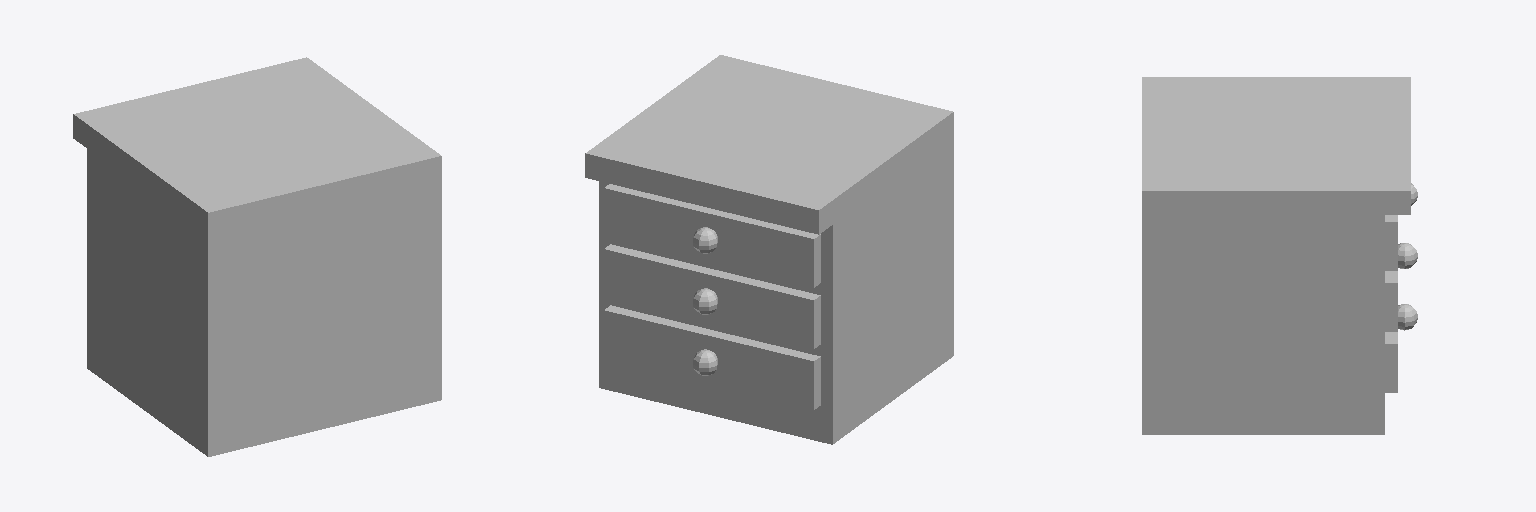
File: cupboard.obj
3 views of the same model, side by side, from view 1: azimuth 30°, elevation 25°; view 2: azimuth 150°, elevation 25°; view 3: azimuth 270°, elevation 25° (orthographic).
Parts seen in each view (by area): view 1: Cube.002_Cube.003, Cube.004; view 2: Cube.004, Cube.002_Cube.003, Cube.007_Cube.005, Cube.005, Cube.006_Cube.005, Sphere, Sphere.002_Sphere, Sphere.001_Sphere; view 3: Cube.002_Cube.003, Cube.004, Cube.007_Cube.005, Cube.005, Cube.006_Cube.005.
Boxes of the visible parts, <box> form: Cube.002_Cube.003: <box>87,149,441,456</box>; Cube.004: <box>73,57,441,236</box>; Cube.004: <box>585,55,953,234</box>; Cube.002_Cube.003: <box>599,136,953,444</box>; Cube.007_Cube.005: <box>604,305,820,409</box>; Cube.005: <box>604,244,820,348</box>; Cube.006_Cube.005: <box>604,184,820,287</box>; Sphere: <box>693,288,717,314</box>; Sphere.002_Sphere: <box>693,349,717,375</box>; Sphere.001_Sphere: <box>693,227,717,253</box>; Cube.002_Cube.003: <box>1142,215,1384,434</box>; Cube.004: <box>1142,77,1410,214</box>; Cube.007_Cube.005: <box>1385,332,1397,392</box>; Cube.005: <box>1385,271,1397,331</box>; Cube.006_Cube.005: <box>1385,215,1397,270</box>.
Bounding box in the file's own units: 2 × 2 × 2.05.